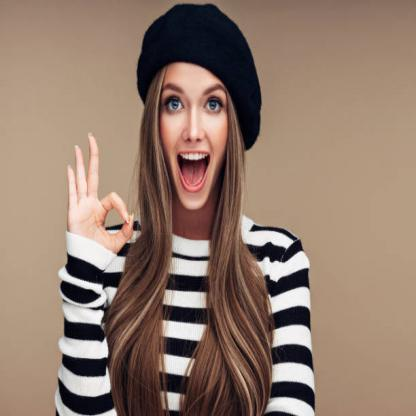ok: (62, 128, 136, 257)
